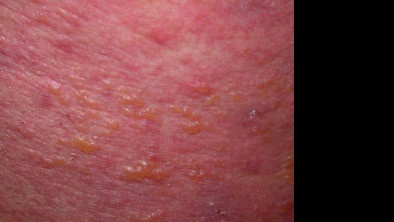SJS-TEN: (20, 72, 286, 222)
